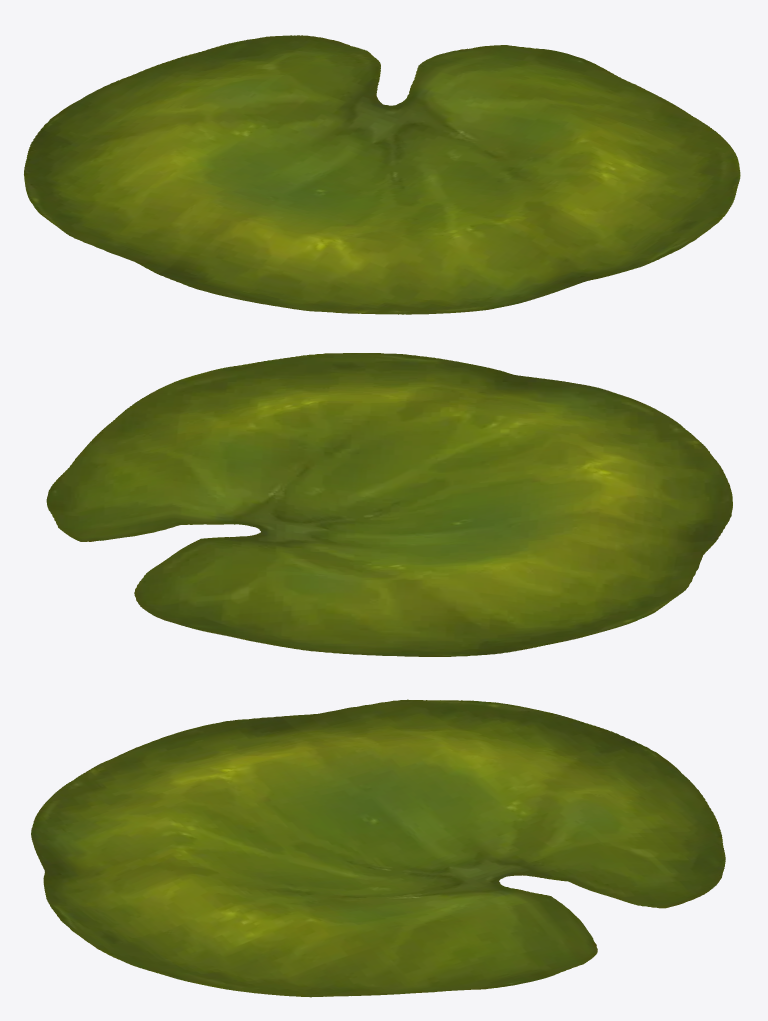
3 views of the same model, one above another, from view 1: azimuth 30°, elevation 25°; view 2: azimuth 150°, elevation 25°; view 3: azimuth 270°, elevation 25° (orthographic). The views are drawn at different scales.
Size of the model in its own units: 3.93 by 0.1597 by 3.89.
Materials: 1 (1 with a texture image).
